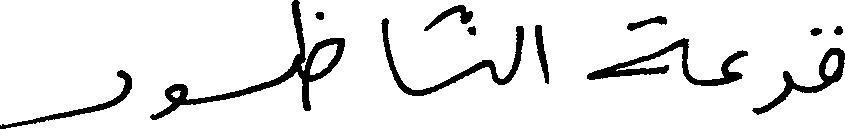X: (0, 65, 132, 128), (588, 11, 686, 84), (292, 0, 344, 115), (381, 13, 404, 97), (756, 66, 792, 119), (819, 21, 844, 95), (150, 79, 187, 124), (721, 45, 745, 89), (535, 20, 550, 88), (508, 21, 523, 87), (484, 55, 491, 78)
